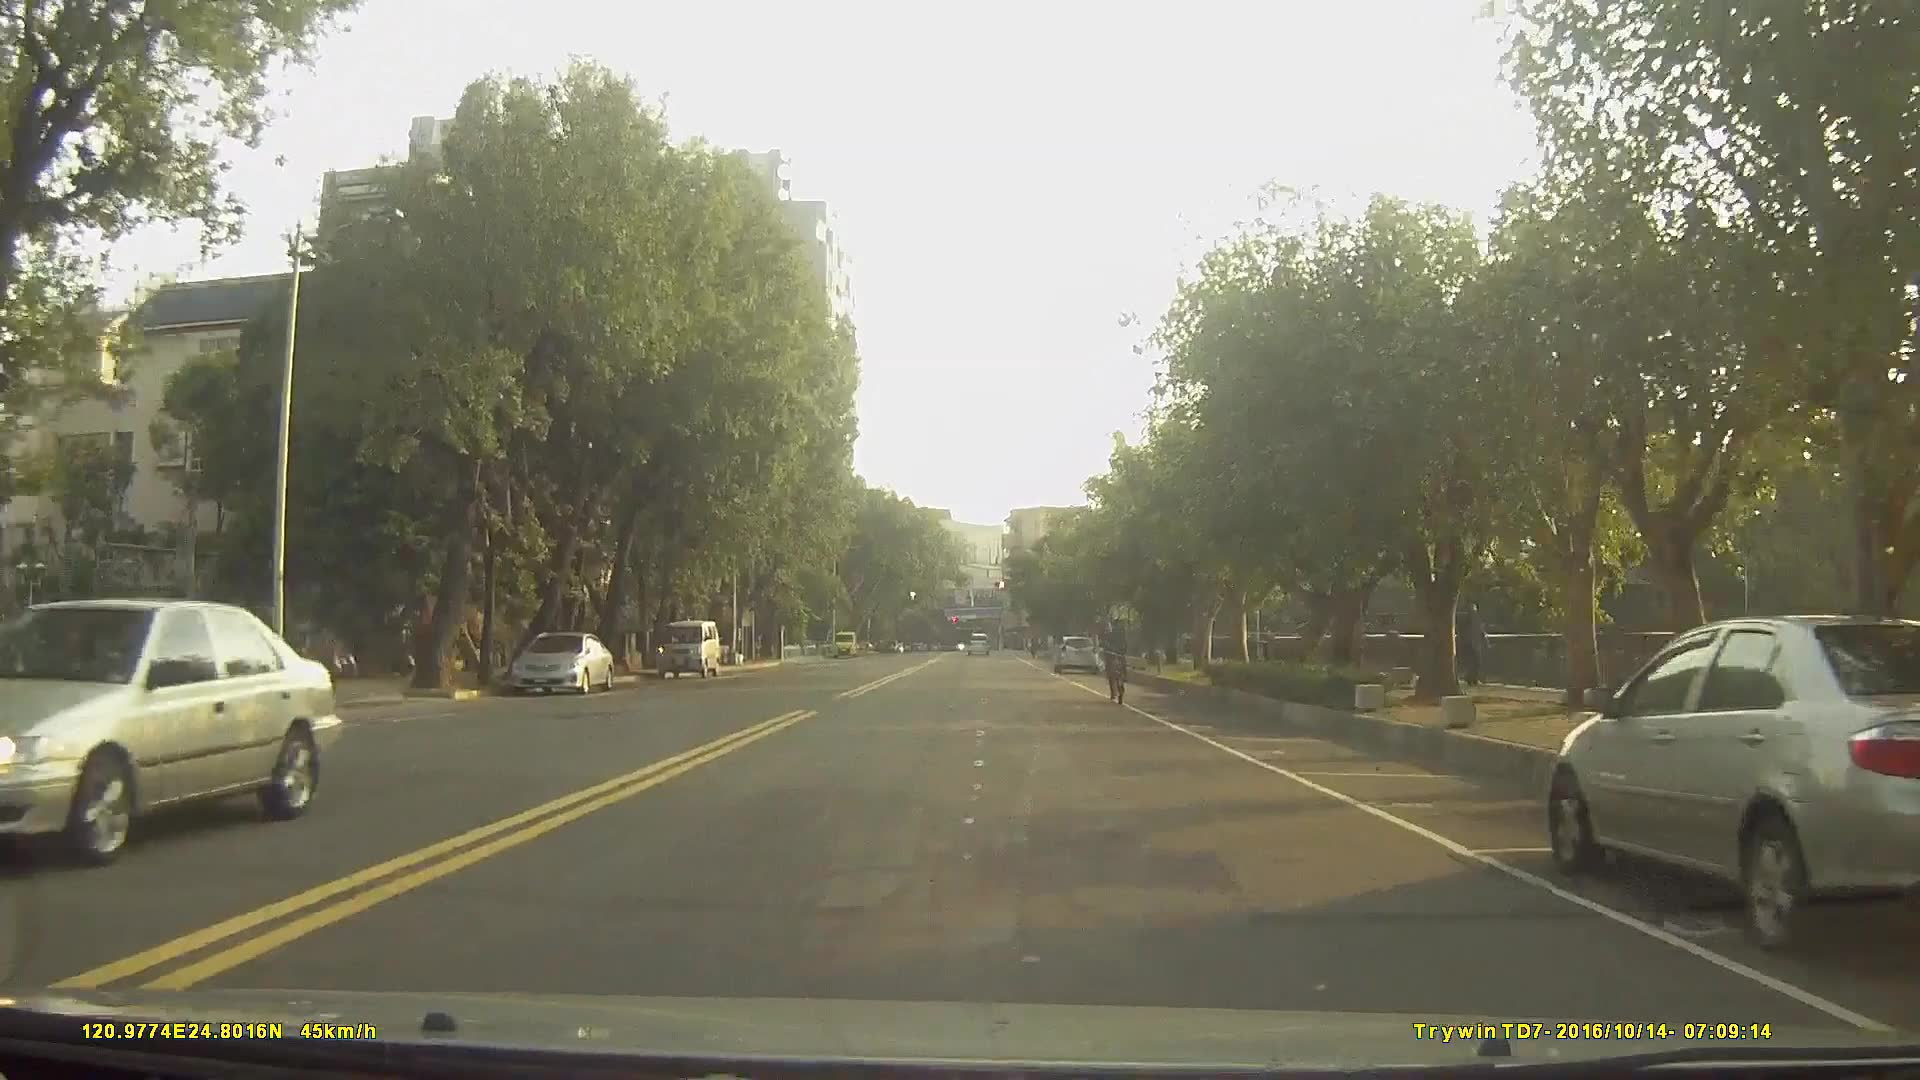rider: (1101, 613, 1133, 704)
vehicle: (1545, 611, 1920, 948), (1, 595, 342, 868), (508, 631, 614, 698), (653, 618, 720, 681), (1051, 632, 1098, 672), (964, 627, 989, 653)
